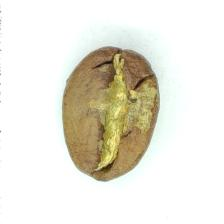NG: (82, 46, 158, 172)
